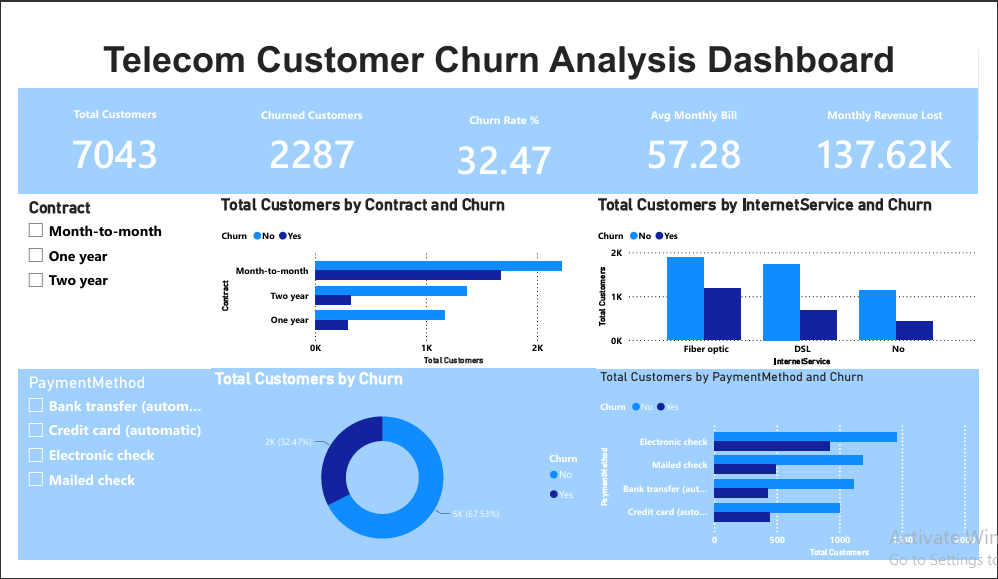

Layout of this report page (visuals, bound fields, positions):
{"tool":"powerbi","page":{"name":"Page 1","canvas":[1280,720],"ordinal":0},"visuals":[{"type":"cardVisual","fields":{"Data":["cleaned_telco_churn.Total Customers"]},"box":[0,91.7,256.7,141.7],"z":0},{"type":"cardVisual","fields":{"Data":["cleaned_telco_churn.Churned Customers"]},"box":[256.7,91.7,265,141.7],"z":1000},{"type":"cardVisual","fields":{"Data":["cleaned_telco_churn.Churn Rate %","cleaned_telco_churn.Churn Rate %"]},"box":[521.7,91.7,248.3,155],"z":2000},{"type":"cardVisual","fields":{"Data":["cleaned_telco_churn.Avg Monthly Bill","cleaned_telco_churn.Avg Monthly Bill"]},"box":[770,91.7,258.3,141.7],"z":3000},{"type":"cardVisual","fields":{"Data":["cleaned_telco_churn.Monthly Revenue Lost"]},"box":[1028.3,91.7,251.7,141.7],"z":4000},{"type":"slicer","fields":{"Values":["cleaned_telco_churn.Contract"]},"box":[0,233.3,256.7,231.7],"z":5000},{"type":"slicer","fields":{"Values":["cleaned_telco_churn.PaymentMethod"]},"box":[0,465.6,256.7,254.4],"z":6000},{"type":"clusteredBarChart","fields":{"Category":["cleaned_telco_churn.Contract"],"Y":["cleaned_telco_churn.Total Customers"],"Series":["cleaned_telco_churn.Churn"]},"box":[265,233.3,513.3,231.7],"z":7000},{"type":"clusteredColumnChart","fields":{"Category":["cleaned_telco_churn.InternetService"],"Y":["cleaned_telco_churn.Total Customers"],"Series":["cleaned_telco_churn.Churn"]},"box":[766.7,233.3,513.3,232.2],"z":8000},{"type":"donutChart","fields":{"Y":["cleaned_telco_churn.Total Customers"],"Category":["cleaned_telco_churn.Churn"]},"box":[256.7,465,513.3,255],"z":9000},{"type":"clusteredBarChart","fields":{"Category":["cleaned_telco_churn.PaymentMethod"],"Y":["cleaned_telco_churn.Total Customers"],"Series":["cleaned_telco_churn.Churn"]},"box":[770,465.6,510,254.4],"z":10000},{"type":"textbox","box":[0,20,1280,71.7],"z":11000}]}

Visuals, with their boxes on the page's 1280x720 design canvas (x1, y1, x2, y2). These are canvas units, not pixel positions in the 998x579 screenshot, which may show the page scaled, cropped or inside an application window:
cardVisual - cleaned_telco_churn.Total Customers: [x1=0, y1=92, x2=257, y2=233]
cardVisual - cleaned_telco_churn.Churned Customers: [x1=257, y1=92, x2=522, y2=233]
cardVisual - cleaned_telco_churn.Churn Rate % x cleaned_telco_churn.Churn Rate %: [x1=522, y1=92, x2=770, y2=247]
cardVisual - cleaned_telco_churn.Avg Monthly Bill x cleaned_telco_churn.Avg Monthly Bill: [x1=770, y1=92, x2=1028, y2=233]
cardVisual - cleaned_telco_churn.Monthly Revenue Lost: [x1=1028, y1=92, x2=1280, y2=233]
slicer - cleaned_telco_churn.Contract: [x1=0, y1=233, x2=257, y2=465]
slicer - cleaned_telco_churn.PaymentMethod: [x1=0, y1=466, x2=257, y2=720]
clusteredBarChart - cleaned_telco_churn.Contract x cleaned_telco_churn.Total Customers: [x1=265, y1=233, x2=778, y2=465]
clusteredColumnChart - cleaned_telco_churn.InternetService x cleaned_telco_churn.Total Customers: [x1=767, y1=233, x2=1280, y2=466]
donutChart - cleaned_telco_churn.Total Customers x cleaned_telco_churn.Churn: [x1=257, y1=465, x2=770, y2=720]
clusteredBarChart - cleaned_telco_churn.PaymentMethod x cleaned_telco_churn.Total Customers: [x1=770, y1=466, x2=1280, y2=720]
textbox: [x1=0, y1=20, x2=1280, y2=92]
